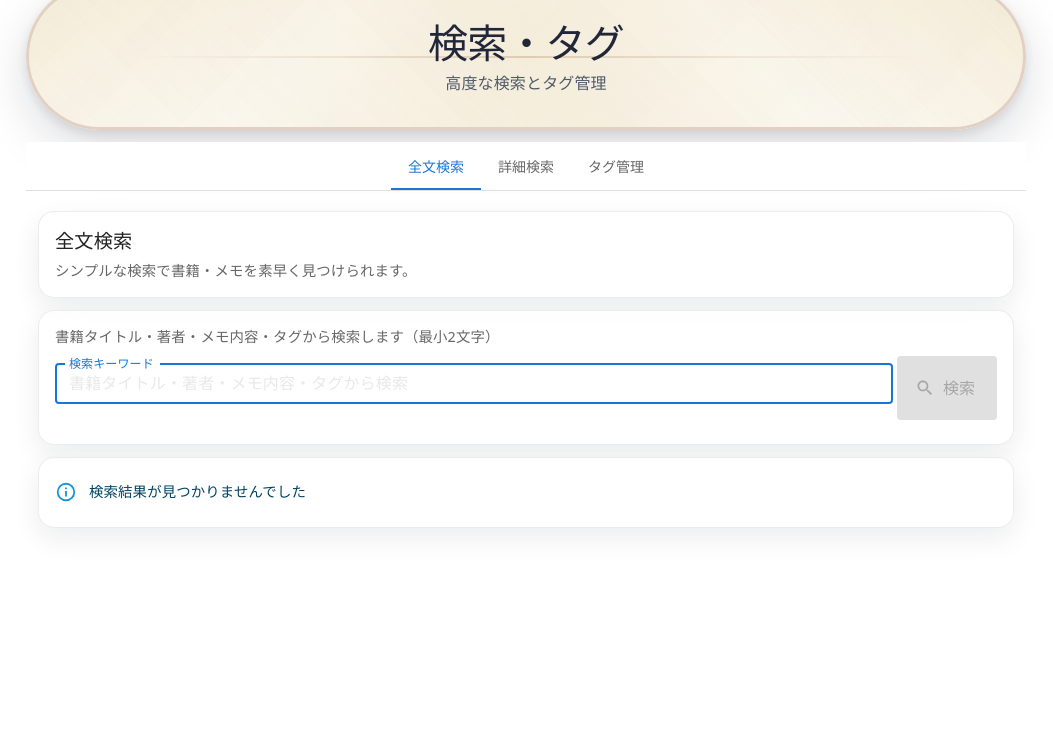
Test: TagSearch › 詳細検索機能 › 検索エラーが表示される
The width and height of the screenshot is (1053, 734).
// 詳細検索タブに切り替え
Click the tab with test id "advanced-search-tab": coordinates (526, 166) [481, 142, 571, 190]
(page scrolled)
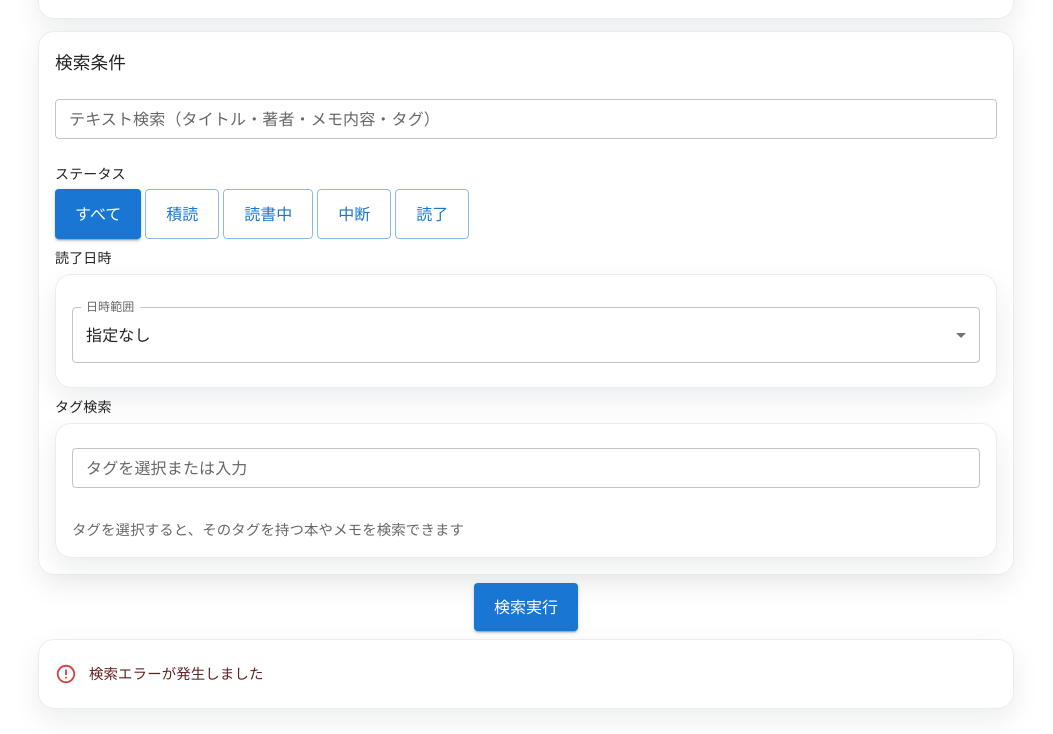
Result: the text "検索エラーが発生しました" is shown at [89, 664, 264, 683]
